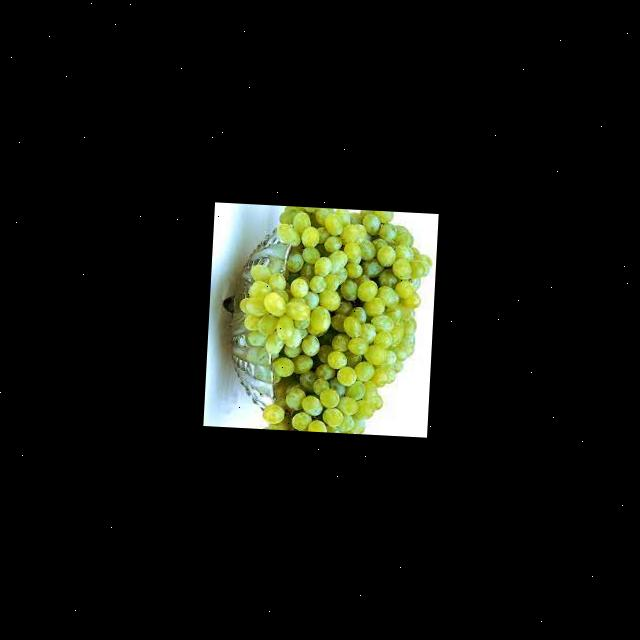grape: (227, 204, 436, 436)
